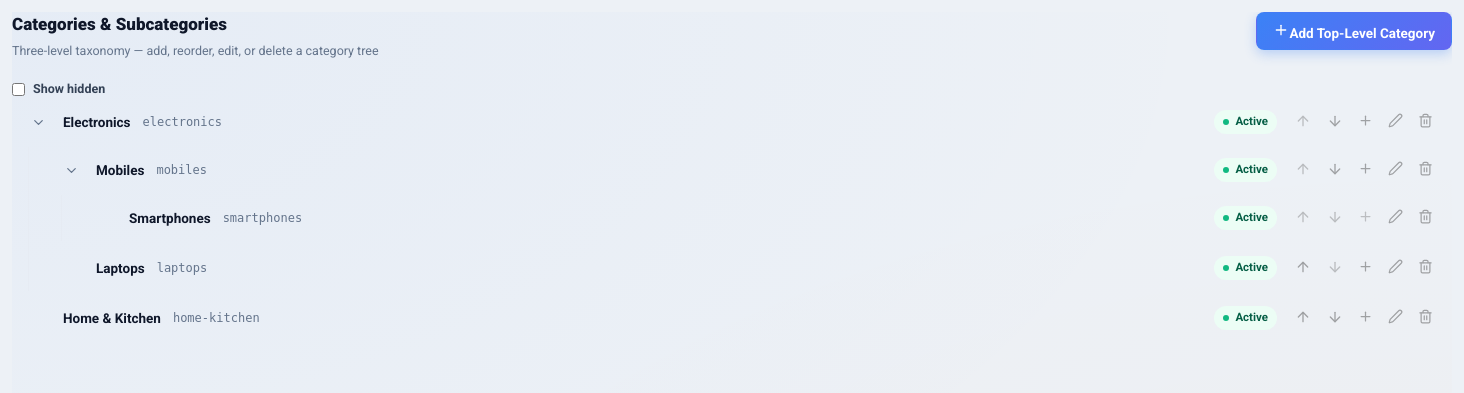
Test: CategoriesTreeEditor › hides inactive rows until Show hidden is on
Expected: the text "Electronics" is shown, [63, 112, 130, 132]
Expected: the text "Accessories" is not shown
Click the checkbox labelled "Show hidden": click(18, 90) [12, 80, 25, 99]
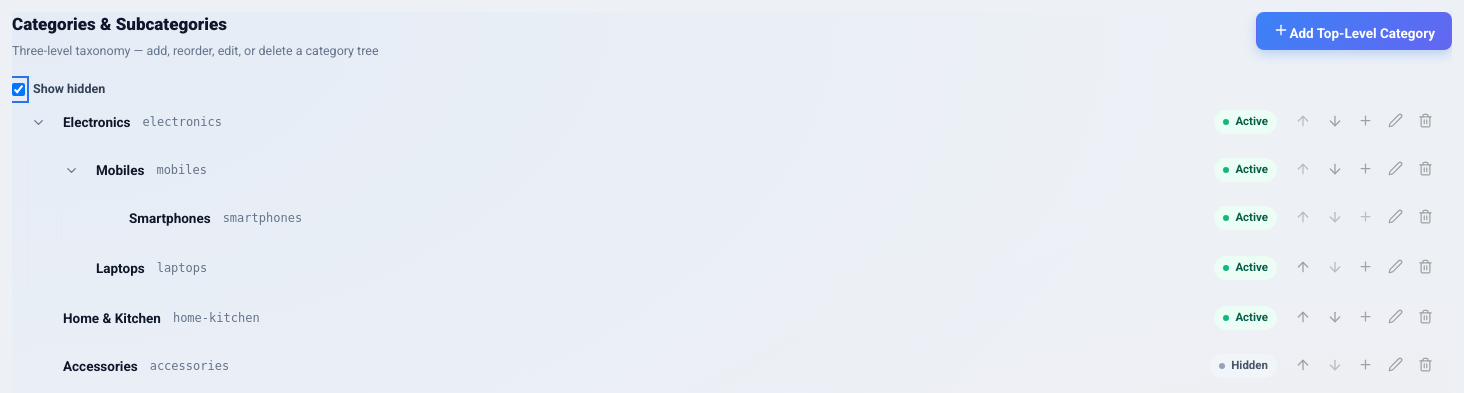
Result: the text "Accessories" is shown at [63, 356, 138, 376]
